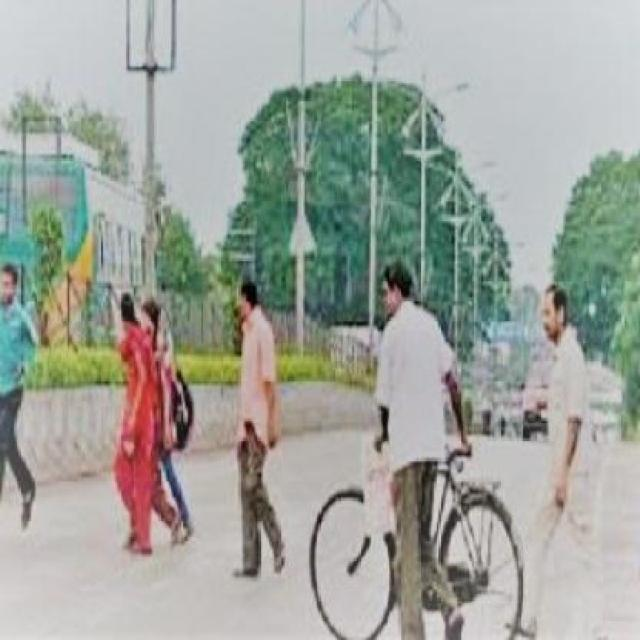Person: (514, 260, 621, 638), (362, 256, 448, 626), (228, 267, 289, 579), (102, 286, 166, 556), (0, 264, 46, 545)
